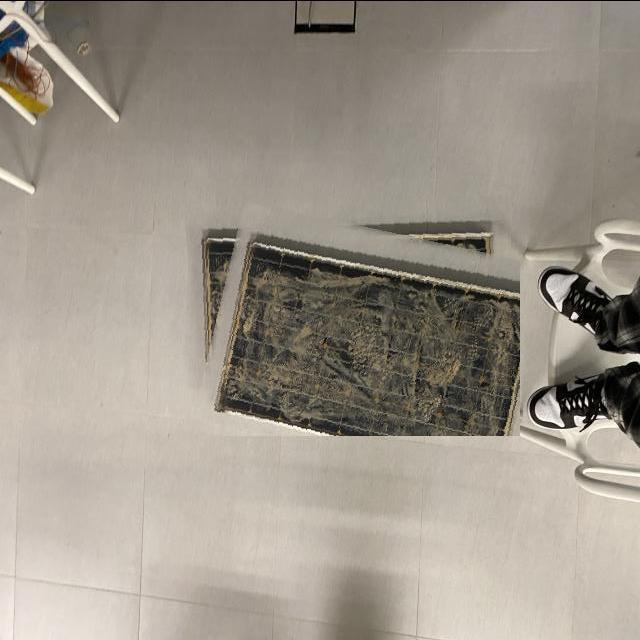Dusty: (217, 257, 524, 436), (209, 251, 231, 360)
